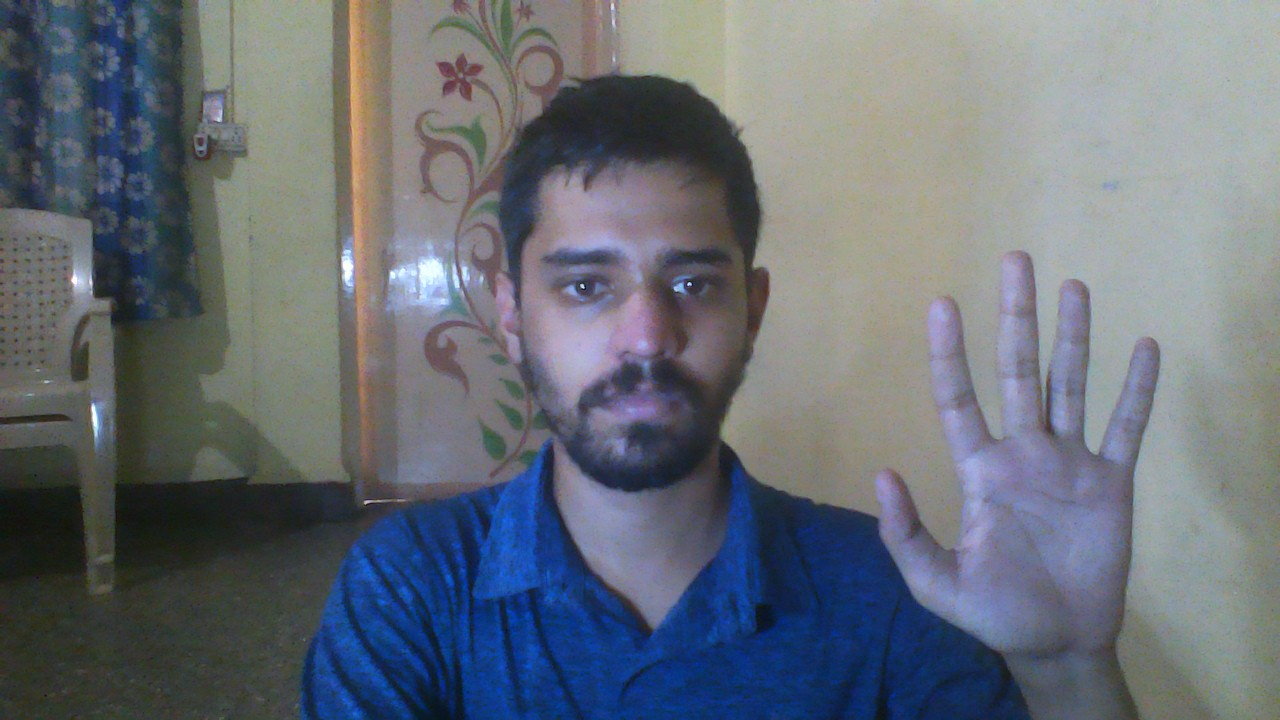hello: (865, 243, 1174, 689)
